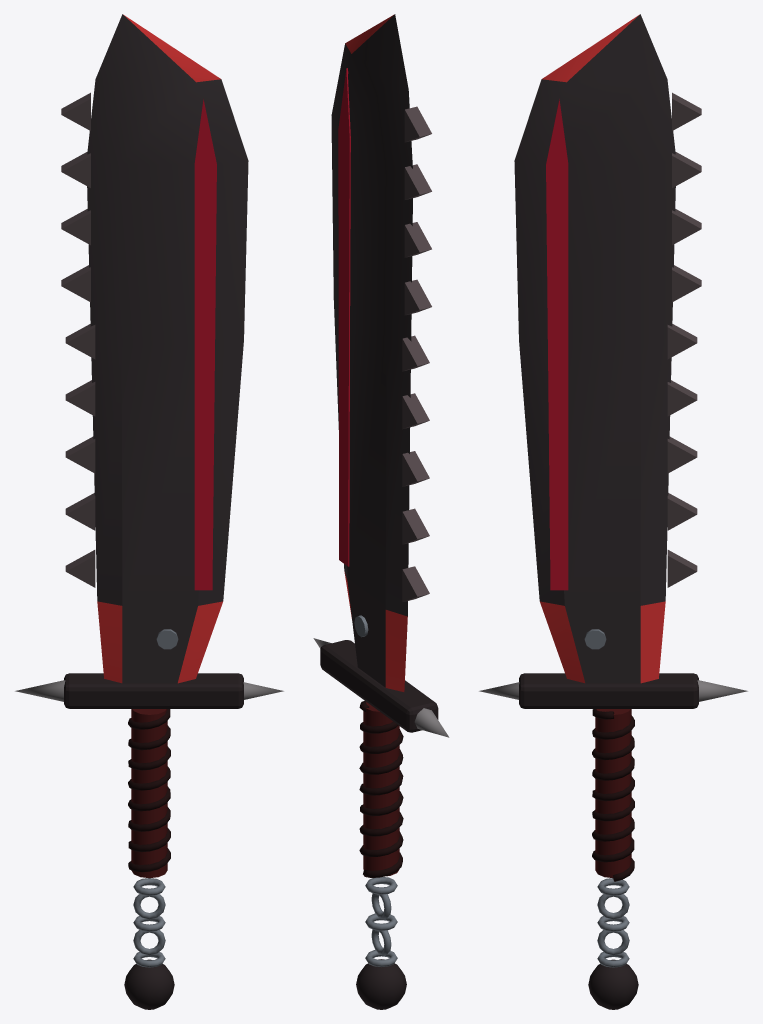
File: sword_ravager.fbx
3 views of the same model, side by side, from view 1: azimuth 90°, elevation 25°; view 2: azimuth 210°, elevation 25°; view 3: azimuth 270°, elevation 25° (orthographic).
Parts seen in each view (by area): view 1: sword_ravager; view 2: sword_ravager; view 3: sword_ravager.
Part boxes in pixels (<box>): sword_ravager: <box>15,14,283,1009</box>; sword_ravager: <box>313,14,449,1009</box>; sword_ravager: <box>479,14,747,1009</box>.
Size of the model in its own units: 0.056 by 1.22 by 0.3.
